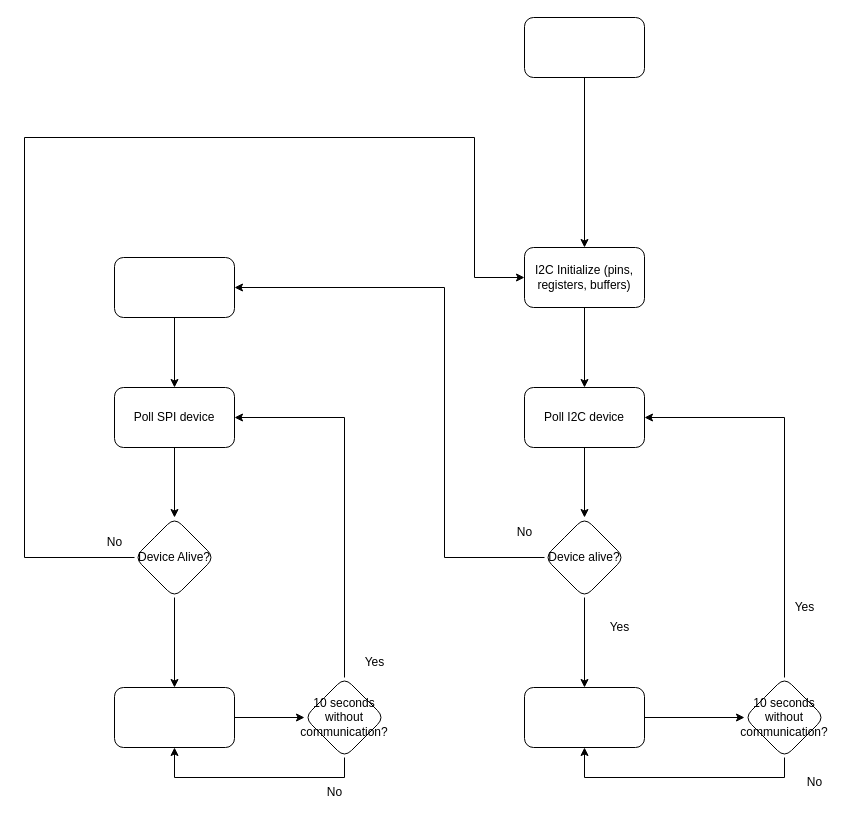
This 852x825 diagram has some shape labels left out. The shapes that lost their labels are listed below. From the top down, each one's box as (x1, y1, x2, y2) in pixels, then its label:
(524, 16, 644, 78): Protocol Initialization
(114, 256, 234, 318): SPI initialize (pins, registers, buffers)
(114, 686, 234, 748): SPI Running
(524, 686, 644, 748): I2C running
